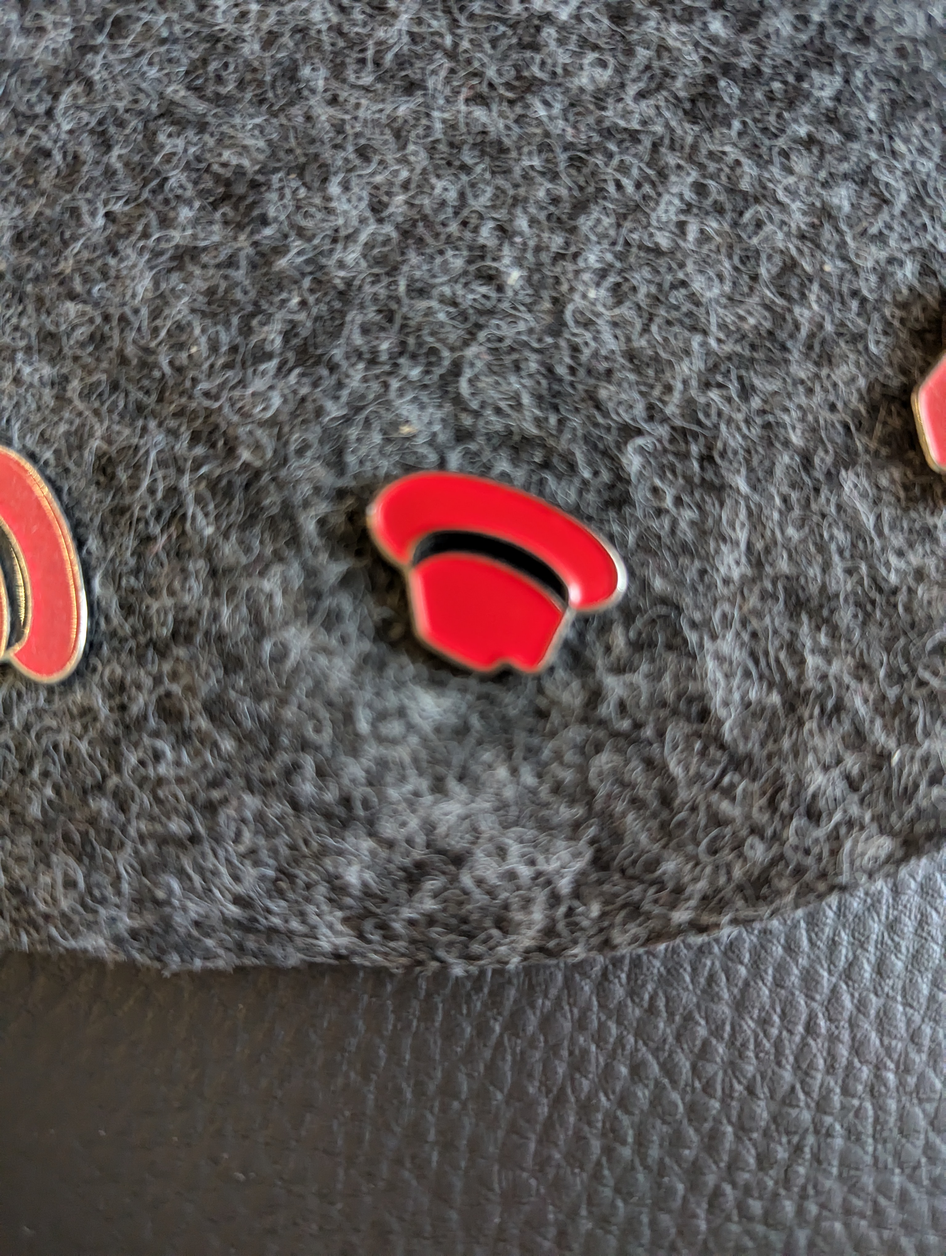Red-Hat: (286, 388, 714, 727), (0, 421, 103, 710)
